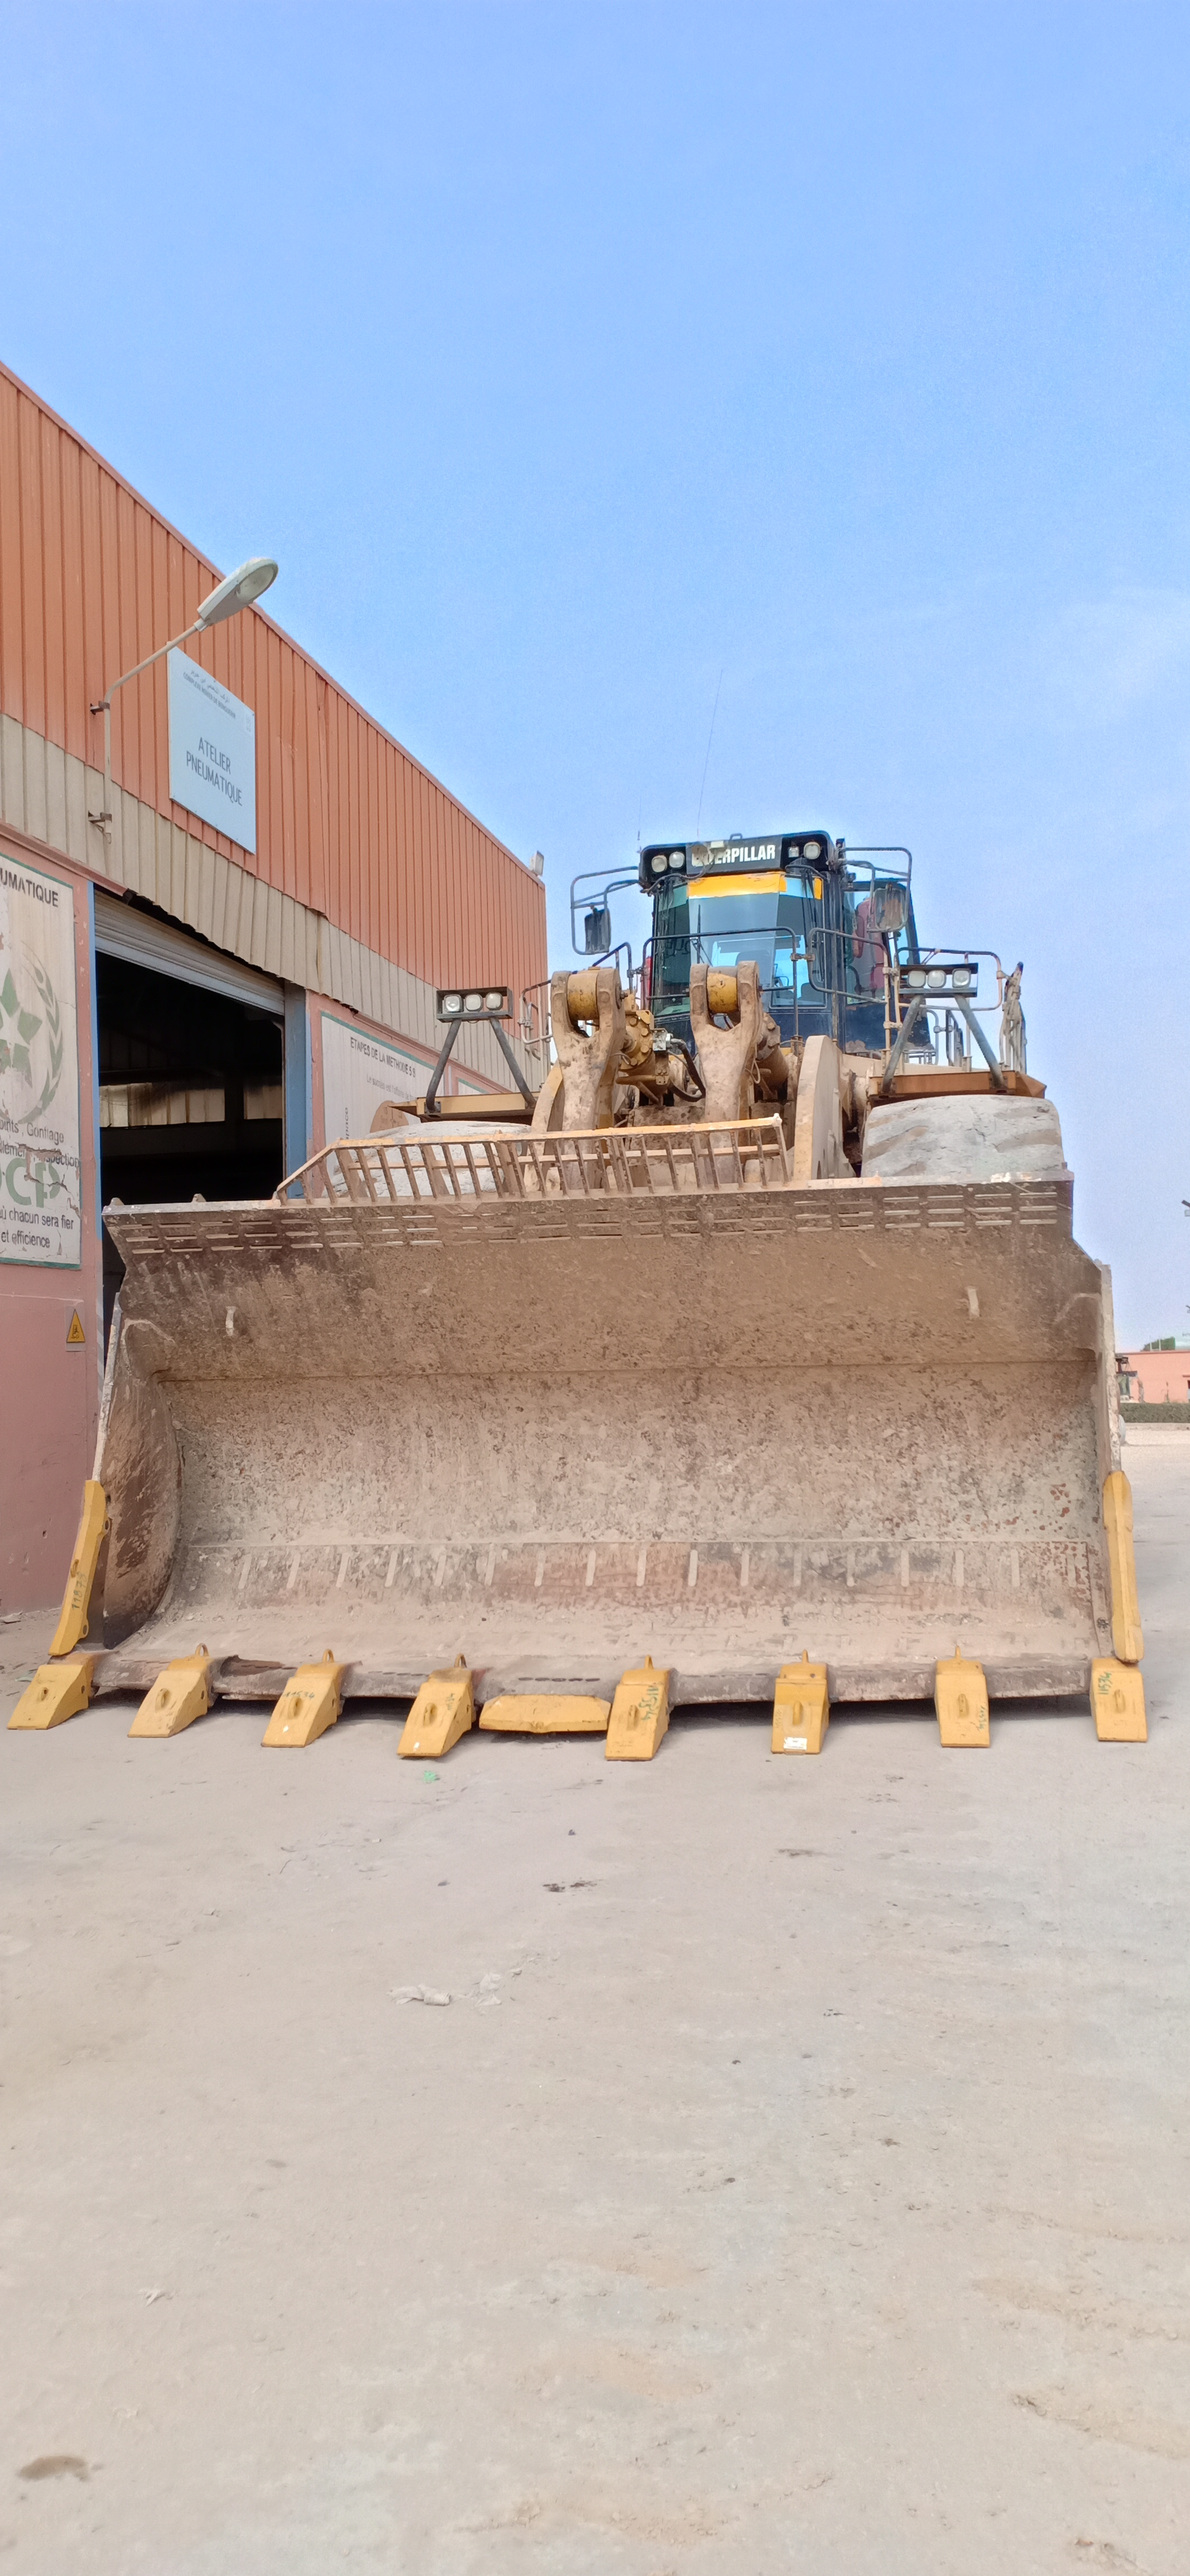chargeuse: (0, 815, 1172, 1786)
